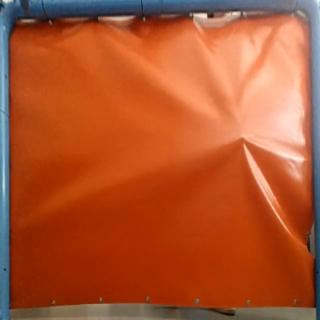Hit-hRxx: (233, 130, 250, 144)
